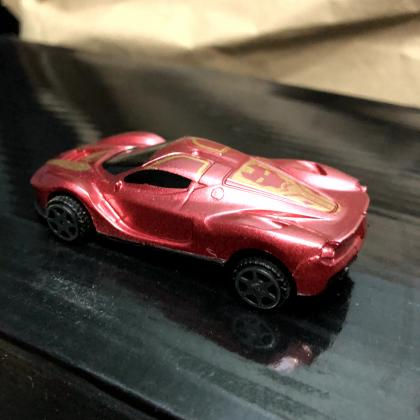Car: (30, 132, 370, 313)
